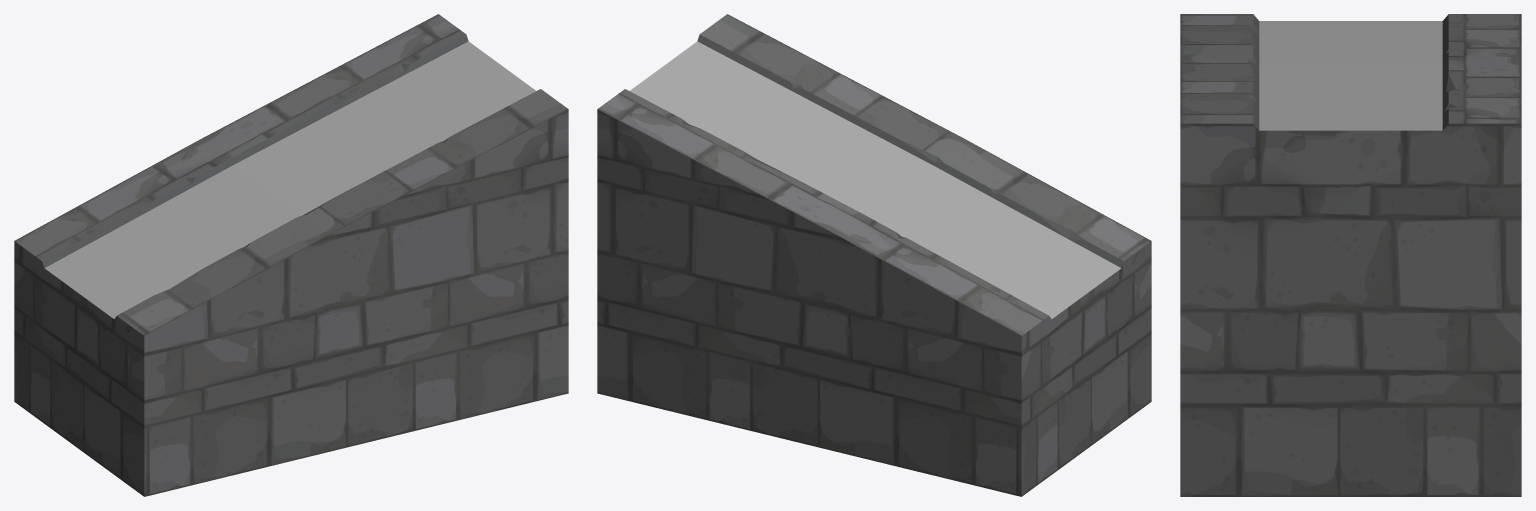
Rendered from SM_Bld_Bridge_L_Ramp_01.fbx.
3 renders of one model, left to right at view 1: azimuth 30°, elevation 25°; view 2: azimuth 150°, elevation 25°; view 3: azimuth 270°, elevation 25°, orthographic. The views are drawn at different scales.
Visible parts, largest first — view 1: SM_Bld_Bridge_L_Ramp_01; view 2: SM_Bld_Bridge_L_Ramp_01; view 3: SM_Bld_Bridge_L_Ramp_01.
Part boxes in pixels (box(x1,y1,x2,y2)): SM_Bld_Bridge_L_Ramp_01: box(14, 14, 568, 496); SM_Bld_Bridge_L_Ramp_01: box(597, 14, 1151, 496); SM_Bld_Bridge_L_Ramp_01: box(1180, 14, 1521, 496).
Bounding box in the file's own units: 938 × 601 × 498.
Materials: 2 (1 with a texture image).
